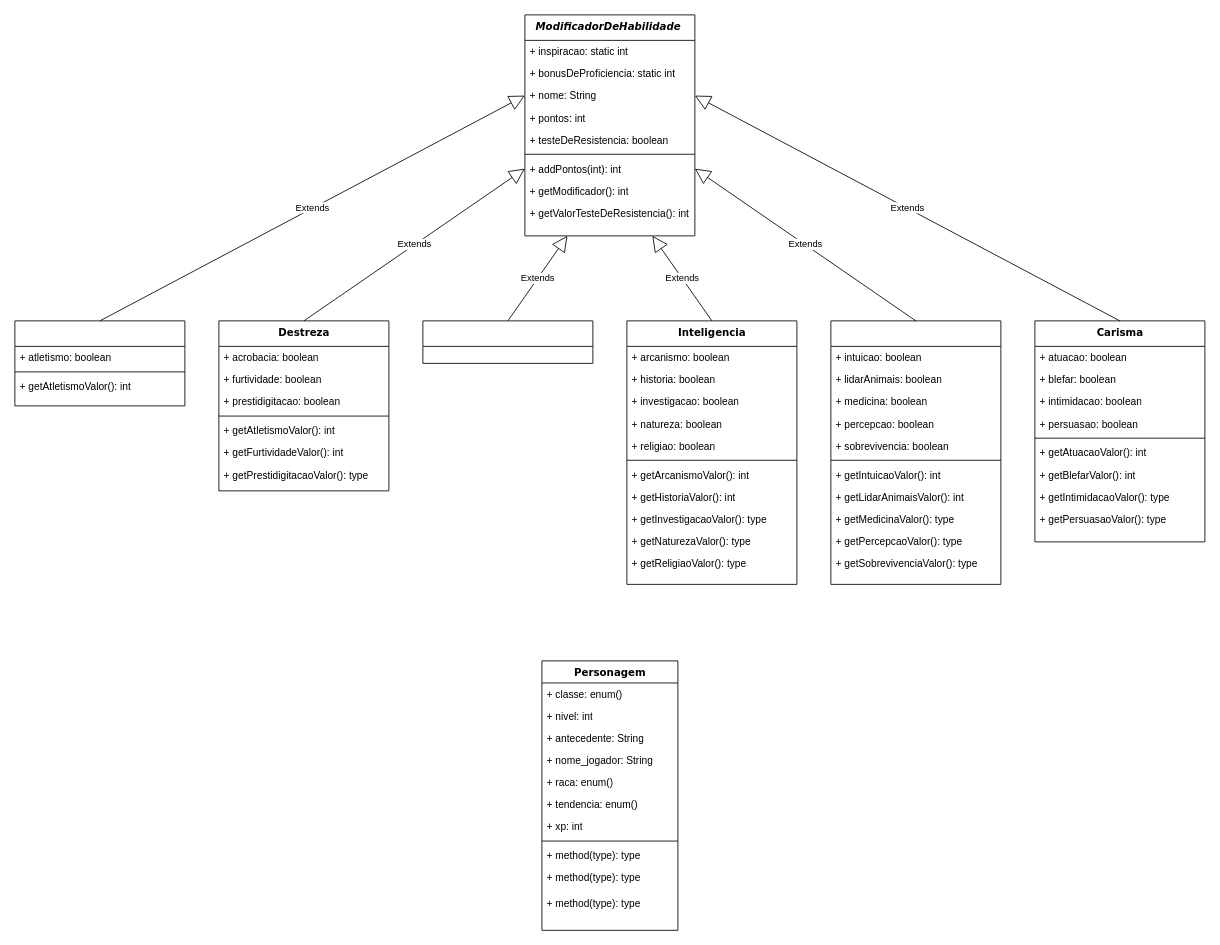
Some shapes in this 1220 by 945 pixel diagram are drawn without their labels. Each missing label, with the box of its shape:
Constituicao: (422, 320, 593, 363)
Forca: (14, 320, 185, 406)
Sabedoria: (830, 320, 1001, 584)
